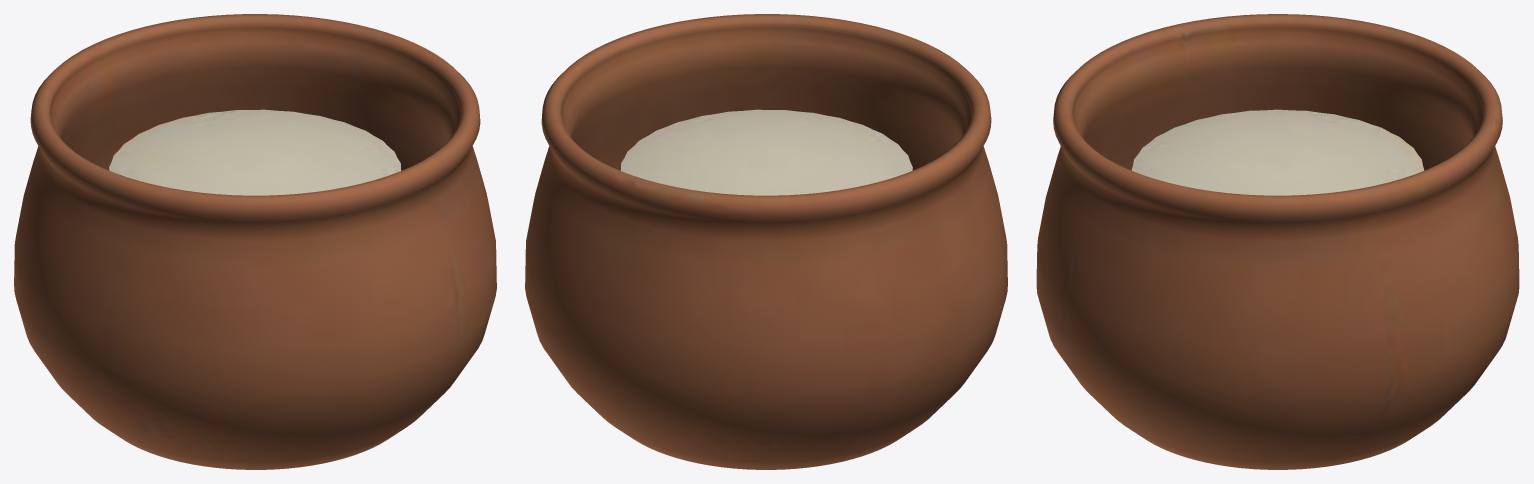
The model's file is mutton_fat.glb.
3 views of the same model, side by side, from view 1: azimuth 30°, elevation 25°; view 2: azimuth 150°, elevation 25°; view 3: azimuth 270°, elevation 25° (orthographic).
Parts seen in each view (by area): view 1: mutton_fat; view 2: mutton_fat; view 3: mutton_fat.
Boxes of the visible parts, x1,y1,x2,y2 form: mutton_fat: (14, 14, 496, 469); mutton_fat: (525, 14, 1007, 469); mutton_fat: (1036, 14, 1519, 469).
Size of the model in its own units: 0.0918 by 0.0649 by 0.0918.
1 material, 1 textured.
